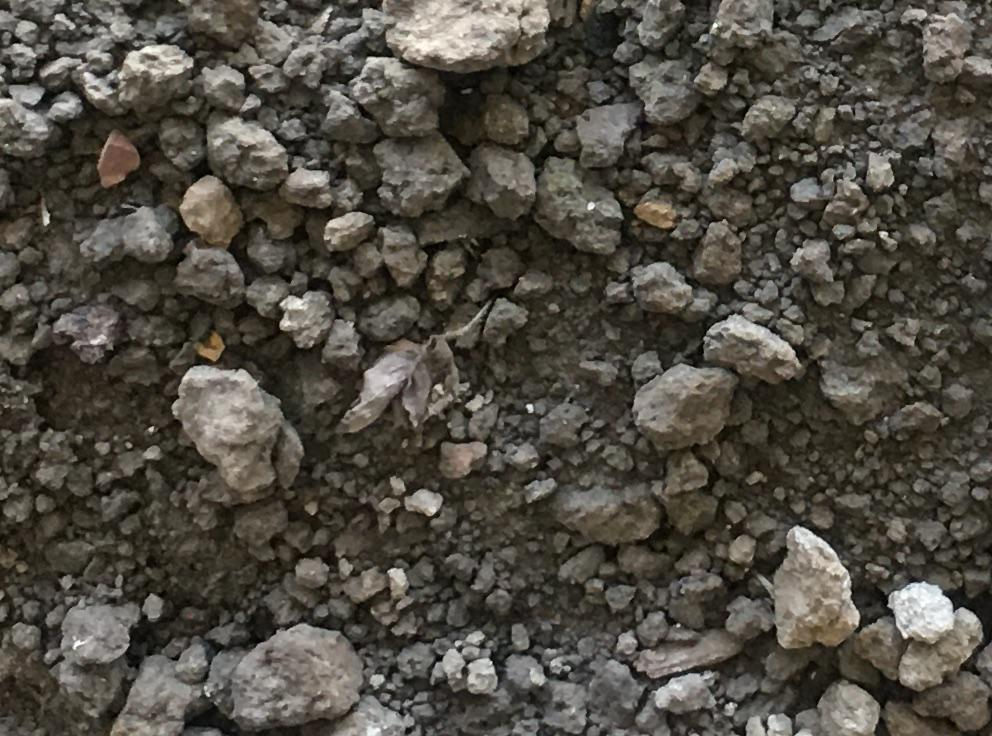block: (165, 364, 291, 497), (211, 625, 363, 723), (377, 1, 572, 67), (771, 525, 861, 650)
